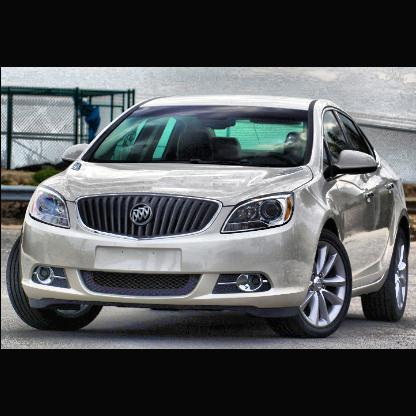Buick Verano Sedan 2012: (4, 95, 410, 341)
